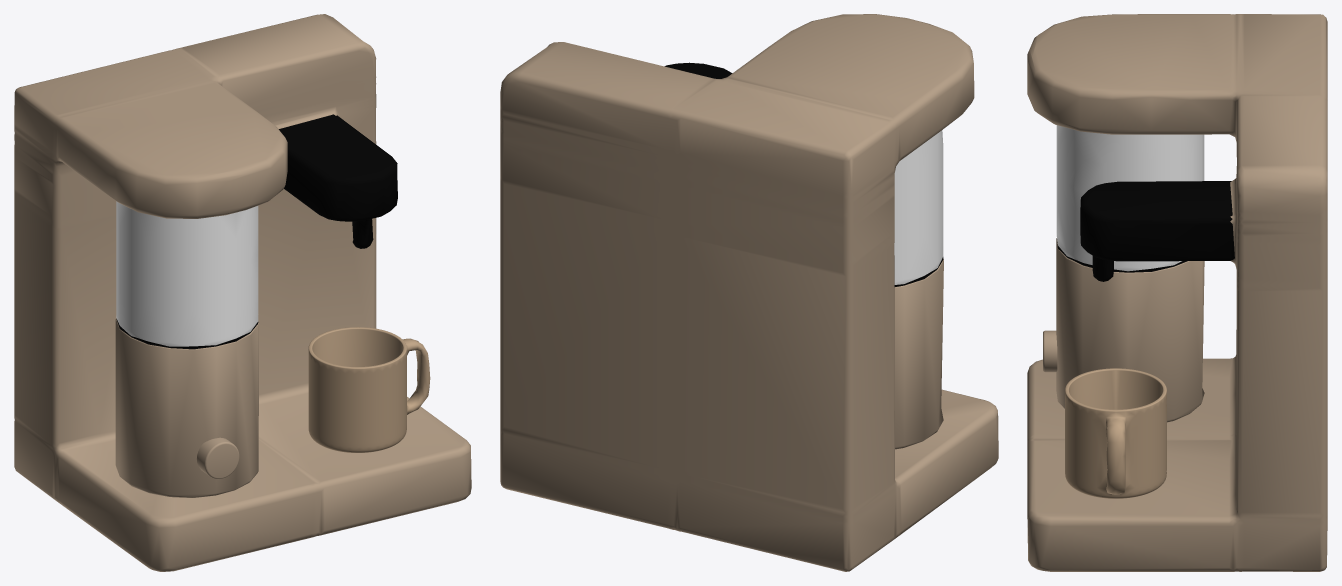
Rendered from coffee-machine.glb.
3 renders of one model, left to right at view 1: azimuth 30°, elevation 25°; view 2: azimuth 150°, elevation 25°; view 3: azimuth 270°, elevation 25°, orthographic. The views are drawn at different scales.
Visible parts, largest first — view 1: Cube, Circle.001, Circle; view 2: Cube; view 3: Cube, Circle.001, Circle.
Part boxes in pixels (box(x1,y1,x2,y2)): Cube: box(14, 14, 471, 571); Circle.001: box(308, 327, 430, 452); Circle: box(197, 437, 239, 478); Cube: box(500, 14, 998, 571); Cube: box(1027, 14, 1327, 571); Circle.001: box(1065, 368, 1166, 498); Circle: box(1043, 330, 1057, 372).
Size of the model in its own units: 0.2439 by 0.278 by 0.1893.
